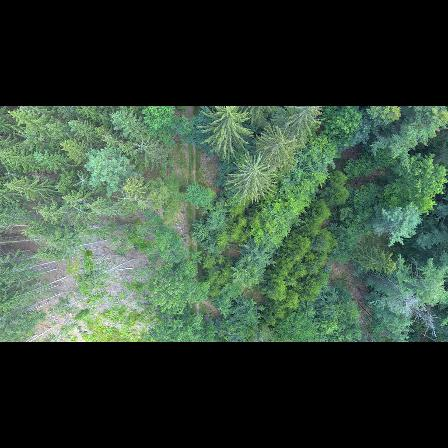Dead: (371, 287, 443, 333)
Sick: (130, 135, 158, 157), (71, 171, 92, 191)
